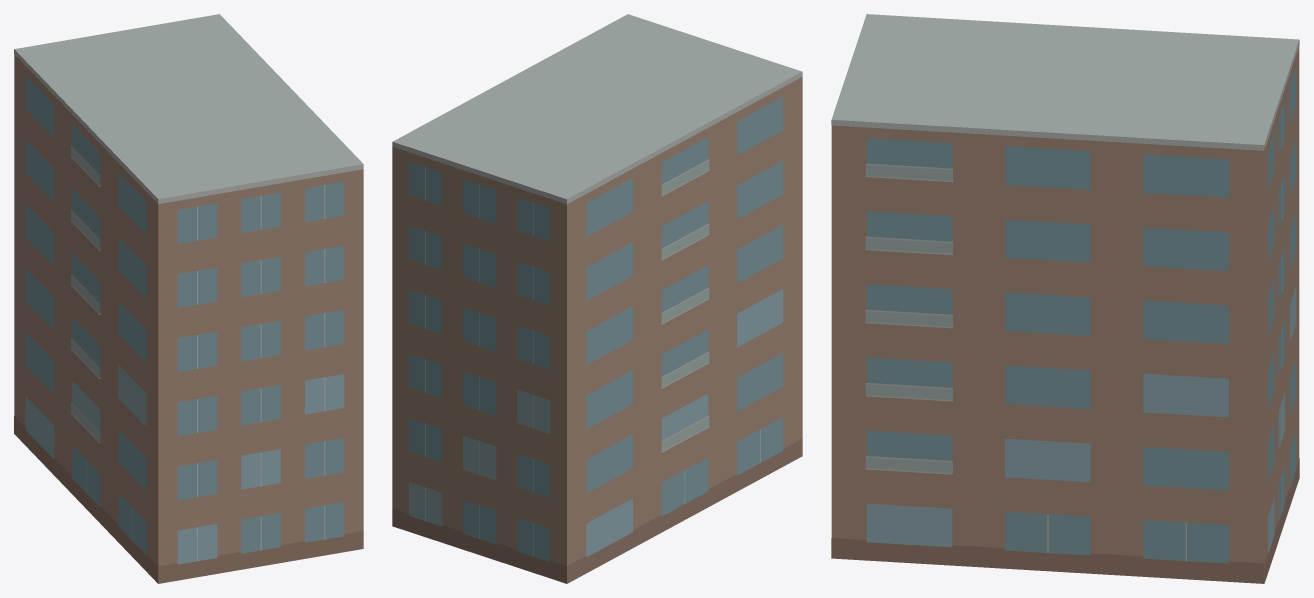
File: survey-upis-32522941.glb
3 views of the same model, side by side, from view 1: azimuth 30°, elevation 25°; view 2: azimuth 150°, elevation 25°; view 3: azimuth 270°, elevation 25° (orthographic). The views are drawn at different scales.
Visible parts, largest first — view 1: survey-upis-32522941.tmp; view 2: survey-upis-32522941.tmp; view 3: survey-upis-32522941.tmp.
Boxes of the visible parts, left/top/right/bottom form: survey-upis-32522941.tmp: left=14, top=14, right=363, bottom=583; survey-upis-32522941.tmp: left=392, top=14, right=802, bottom=583; survey-upis-32522941.tmp: left=831, top=14, right=1299, bottom=583.
Size of the model in its own units: 12.07 by 18.8 by 18.19.
